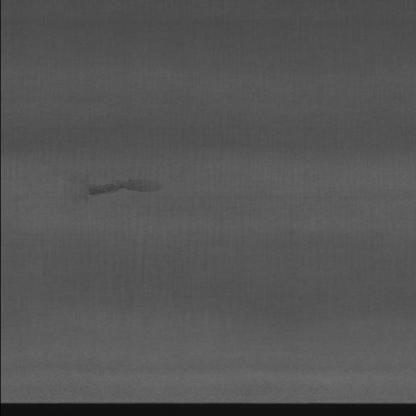water_spot: (65, 166, 179, 214)
